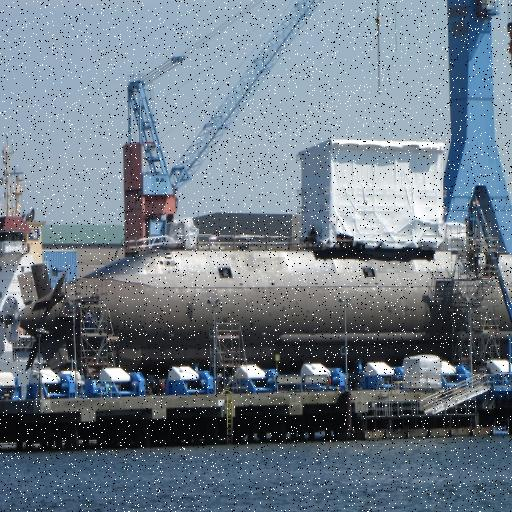submarine: (27, 240, 512, 369)
